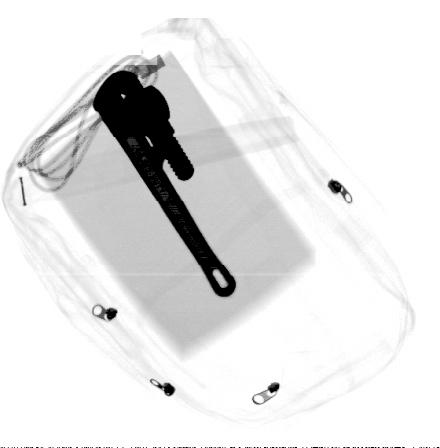Wrench: (93, 69, 236, 297)
